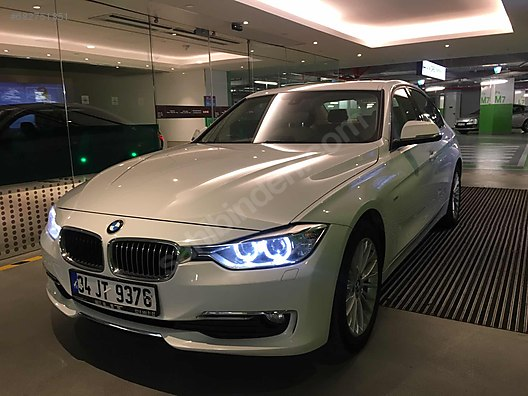bmw: (34, 75, 468, 373)
